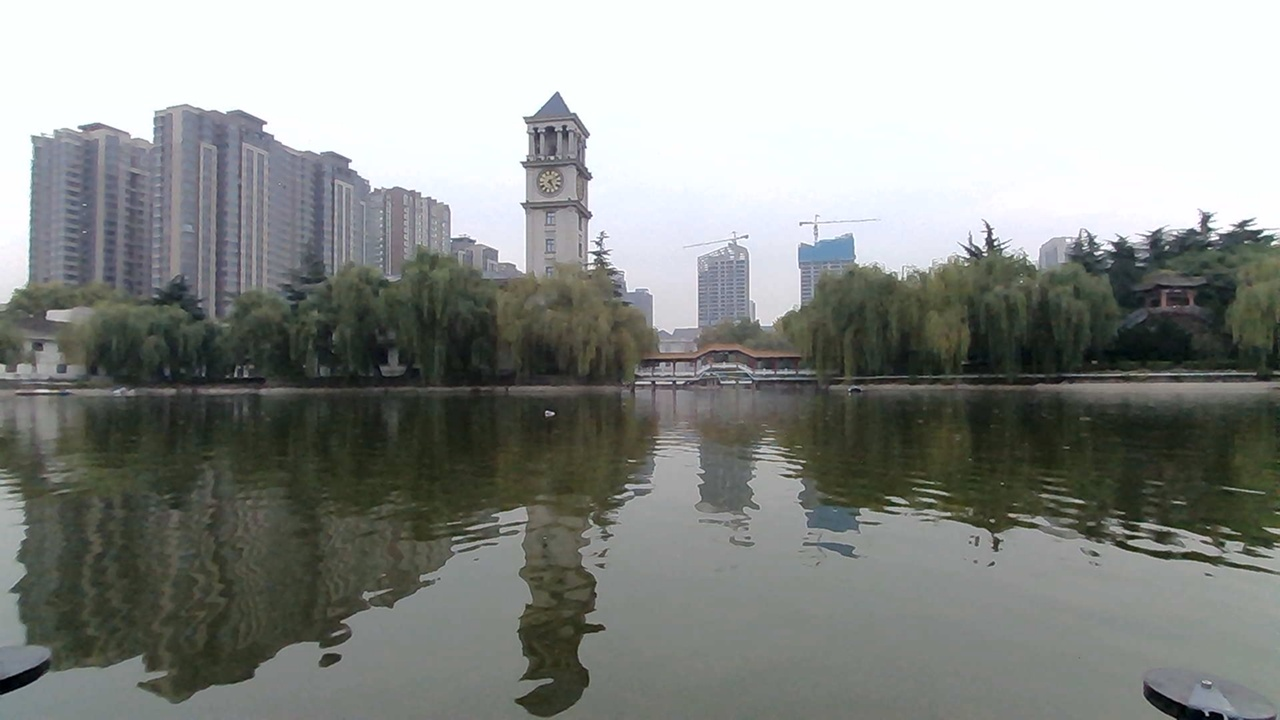bottle: (532, 404, 563, 425)
